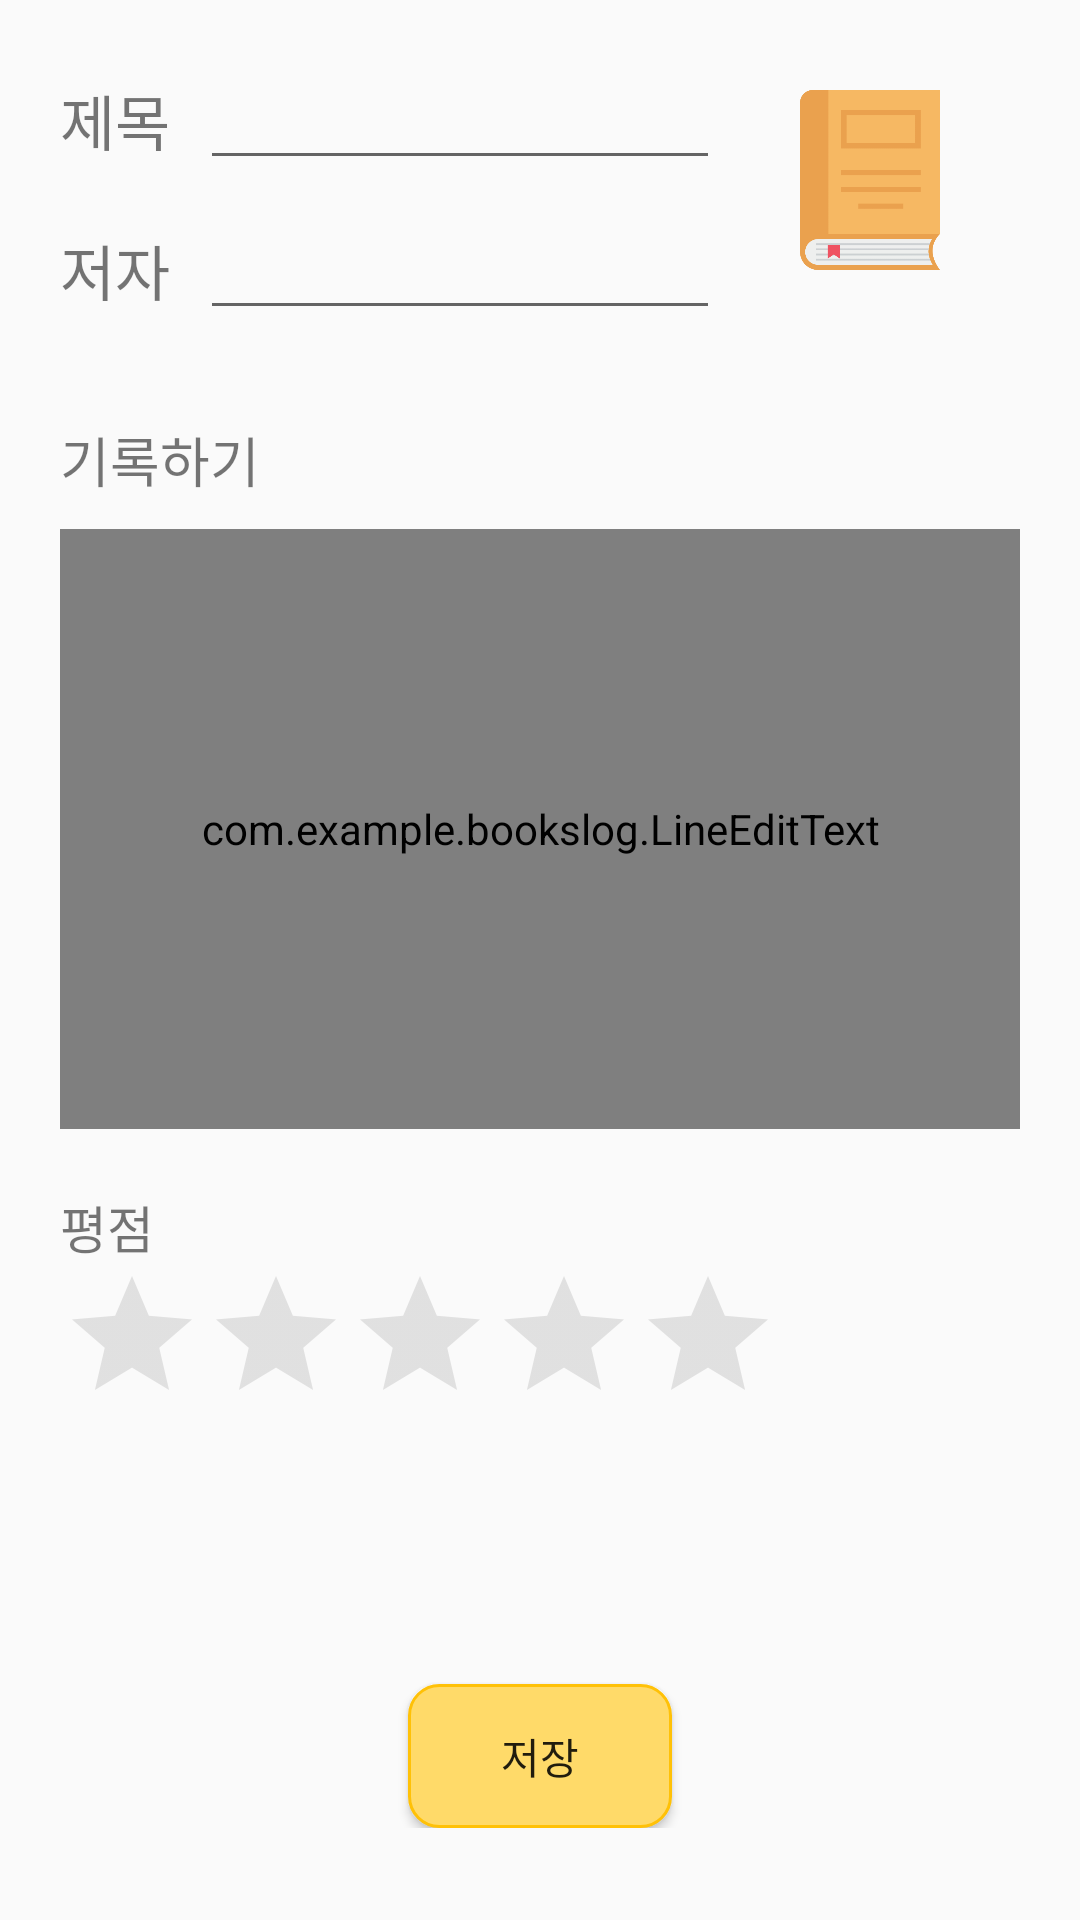

Icons on this 1080 × 1920 Android screen, each with the point to tap as (x=x, y=y):
bcover: (x=870, y=180)
